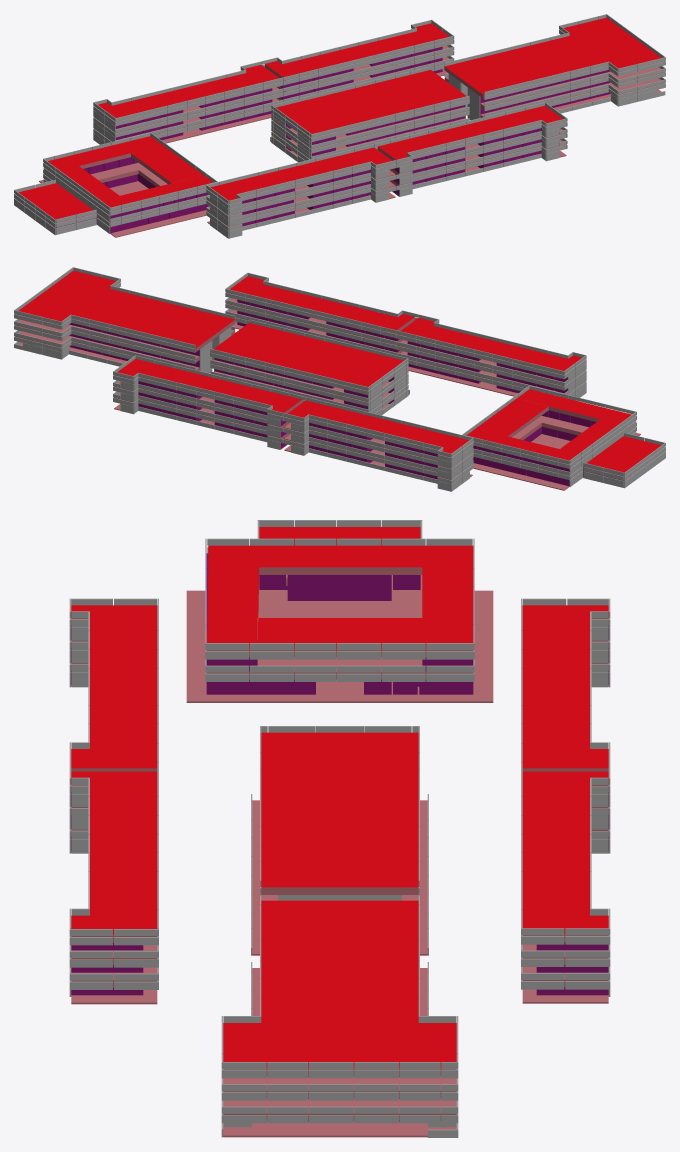
Rendered from Render.glb.
3 views of the same model, one above another, from view 1: azimuth 30°, elevation 25°; view 2: azimuth 150°, elevation 25°; view 3: azimuth 270°, elevation 25° (orthographic). The views are drawn at different scales.
Visible parts, largest first — view 1: T_E5, T_EL, T_EG, T_E3, T_E4, T_E2, T_E1, P_EG_P1, P_EG_P0, P_E5_P2, P_E2_P0, P_E5_P1 (+6 smaller); view 2: T_E5, T_EL, T_EG, T_E3, T_E4, T_E1, T_E2, P_EG_P1, P_EG_P0, 0003, P_E5_P2, P_E1_P0 (+6 smaller); view 3: T_E5, T_EL, T_EG, T_E1, T_E2, T_E4, T_E3, P_EG_P0, P_EG_P1, P_E5_P0, P_EL_P0, P_E5_P1 (+5 smaller).
Boxes of the visible parts, bbox=[...] form: T_E5: bbox=[444, 17, 664, 98]; T_EL: bbox=[276, 70, 469, 137]; T_EG: bbox=[44, 136, 213, 211]; T_E3: bbox=[377, 105, 566, 163]; T_E4: bbox=[265, 23, 452, 81]; T_E2: bbox=[98, 65, 282, 121]; T_E1: bbox=[211, 147, 395, 204]; P_EG_P1: bbox=[17, 162, 206, 223]; P_EG_P0: bbox=[39, 180, 206, 237]; P_E5_P2: bbox=[445, 67, 664, 109]; P_E2_P0: bbox=[162, 114, 271, 143]; P_E5_P1: bbox=[480, 78, 664, 117]; T_E5: bbox=[15, 270, 235, 351]; T_EL: bbox=[210, 323, 403, 390]; T_EG: bbox=[466, 389, 635, 464]; T_E3: bbox=[226, 276, 414, 334]; T_E4: bbox=[114, 359, 302, 416]; T_E1: bbox=[397, 318, 581, 374]; T_E2: bbox=[284, 400, 468, 457]; P_EG_P1: bbox=[473, 415, 662, 476]; P_EG_P0: bbox=[473, 433, 640, 490]; 0003: bbox=[473, 426, 557, 475]; P_E5_P2: bbox=[15, 320, 234, 362]; P_E1_P0: bbox=[408, 367, 517, 396]; T_E5: bbox=[223, 900, 456, 1075]; T_EL: bbox=[261, 732, 418, 894]; T_EG: bbox=[206, 545, 473, 657]; T_E1: bbox=[71, 605, 157, 771]; T_E2: bbox=[522, 605, 608, 771]; T_E4: bbox=[522, 771, 608, 942]; T_E3: bbox=[71, 771, 157, 942]; P_EG_P0: bbox=[186, 590, 493, 702]; P_EG_P1: bbox=[206, 527, 473, 679]; P_E5_P0: bbox=[223, 968, 456, 1137]; P_EL_P0: bbox=[252, 800, 427, 955]; P_E5_P1: bbox=[223, 1098, 456, 1120].
Bounding box in the file's own units: 227 × 13.55 × 88.16.
